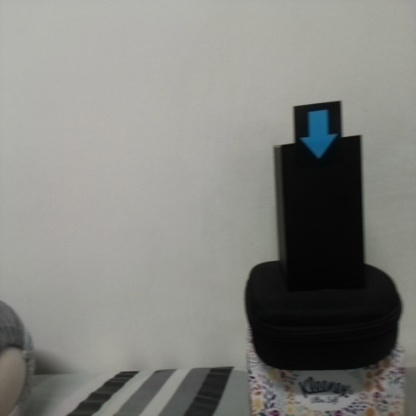id_2: (294, 106, 342, 167)
